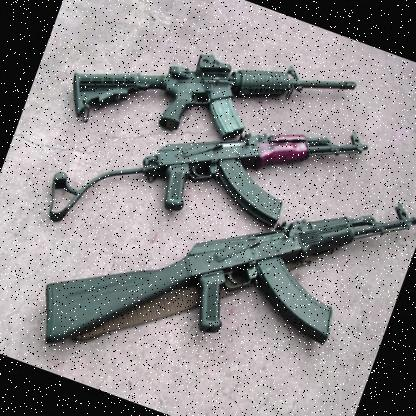rifle: (18, 97, 416, 416), (57, 0, 365, 210), (122, 62, 366, 280)
